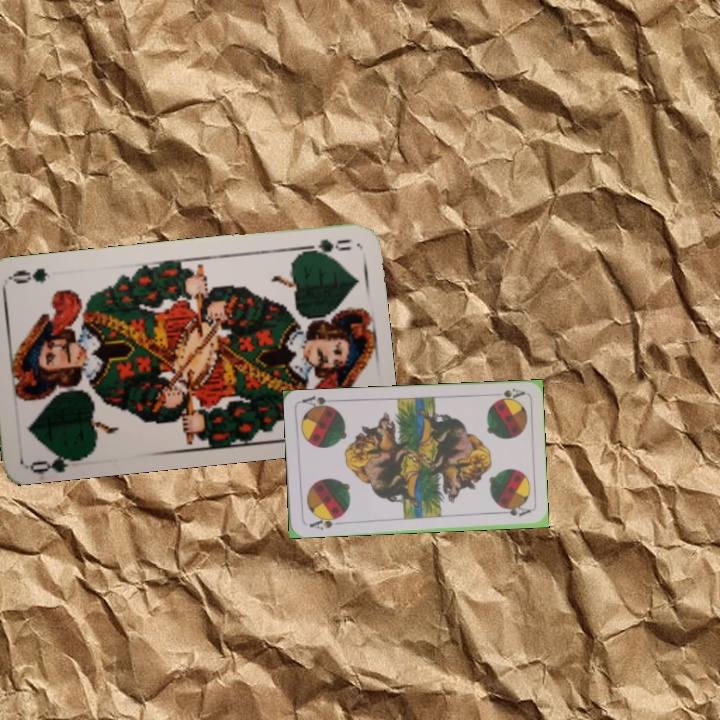GO: (27, 446, 86, 475), (296, 235, 354, 258)
SA: (305, 512, 344, 532), (490, 384, 527, 404)
